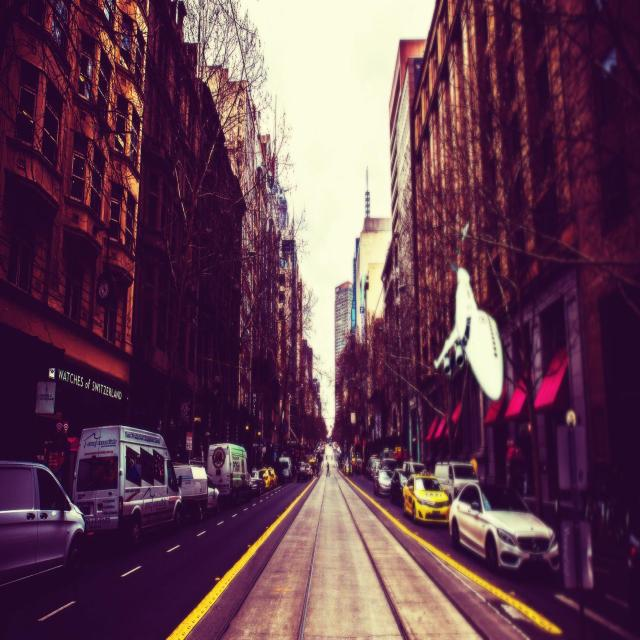airplane: (430, 265, 504, 400)
